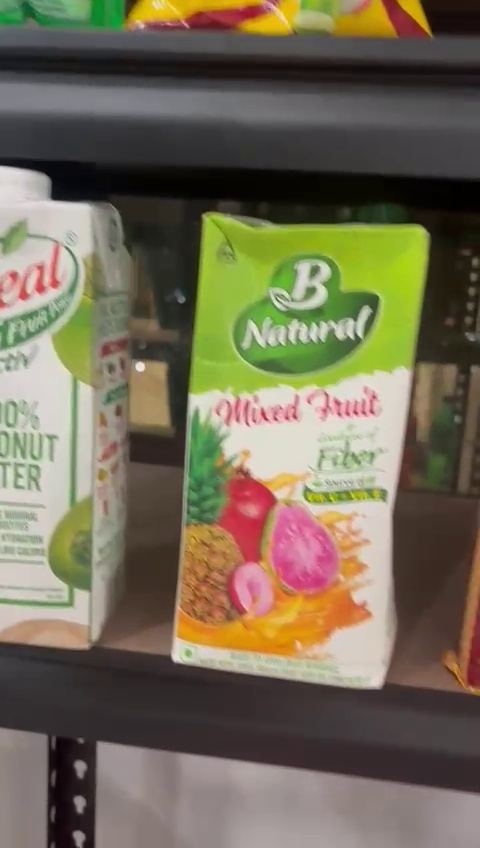Mixed Fruit: (186, 210, 396, 679)
